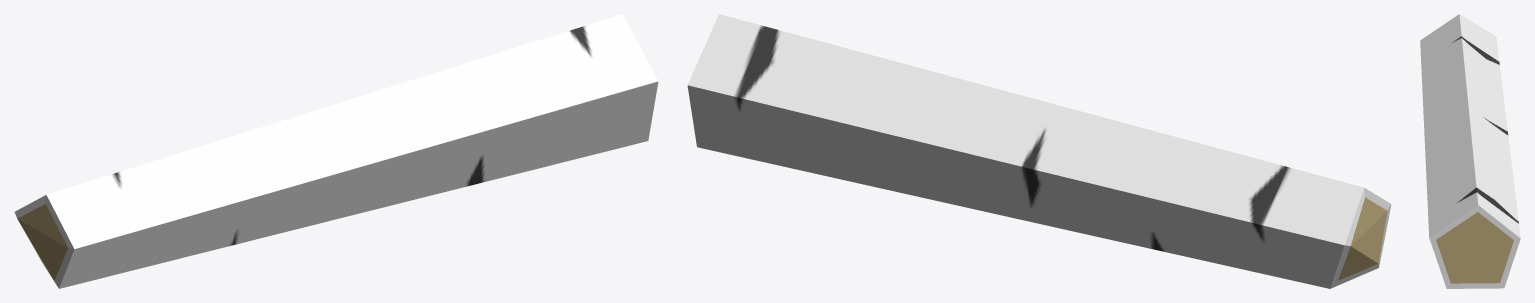
Rendered from Birch_Log_04.fbx.
3 views of the same model, side by side, from view 1: azimuth 30°, elevation 25°; view 2: azimuth 150°, elevation 25°; view 3: azimuth 270°, elevation 25° (orthographic). The views are drawn at different scales.
Visible parts, largest first — view 1: Birch_Log_04; view 2: Birch_Log_04; view 3: Birch_Log_04.
Part boxes in pixels (bbox=[...]): Birch_Log_04: bbox=[14, 14, 658, 288]; Birch_Log_04: bbox=[687, 14, 1391, 288]; Birch_Log_04: bbox=[1420, 14, 1520, 288].
Size of the model in its own units: 169 by 30.15 by 33.35.
